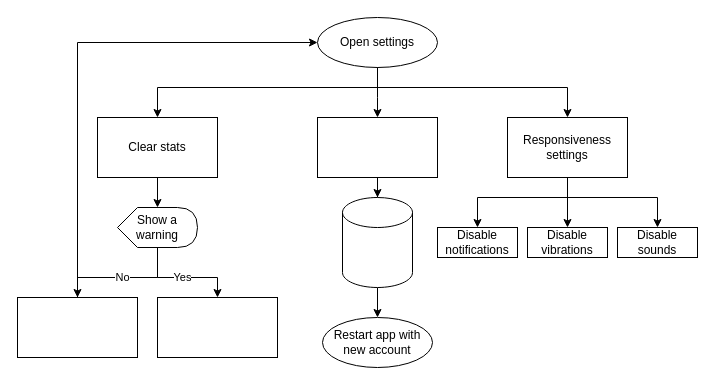
Some shapes in this 715 by 385 pixel diagram are drawn without their labels. The box of each missing label's shape, as (x1, y1, x2, y2) in pixels:
Clear all statistics linked to an account: (156, 296, 278, 358)
Dont clear everything: (16, 296, 138, 358)
Save all progress on the account: (342, 196, 412, 288)
Swtich Account: (316, 116, 438, 178)
